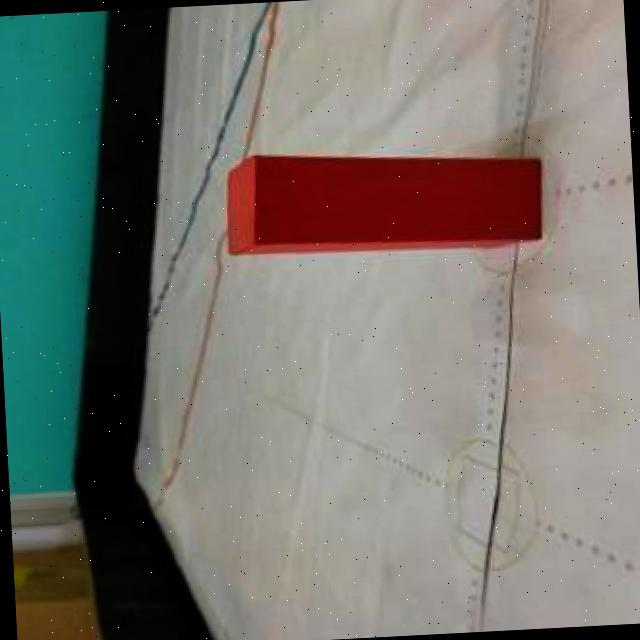redbox: (220, 140, 545, 260)
